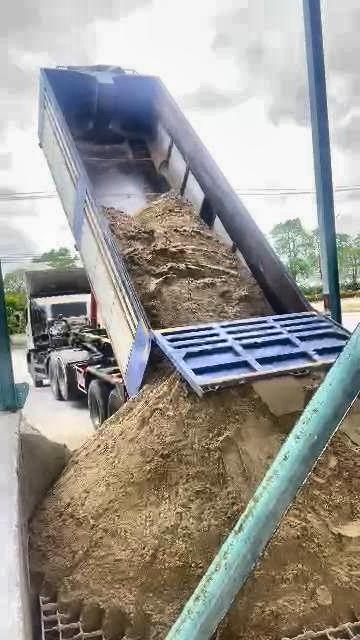sand: (32, 371, 294, 639), (217, 434, 360, 639), (110, 196, 269, 326), (19, 422, 71, 520), (252, 370, 326, 423), (341, 399, 360, 445)
